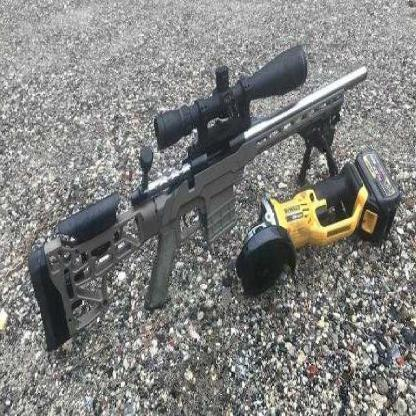Heavy Gun: (32, 45, 370, 352)
